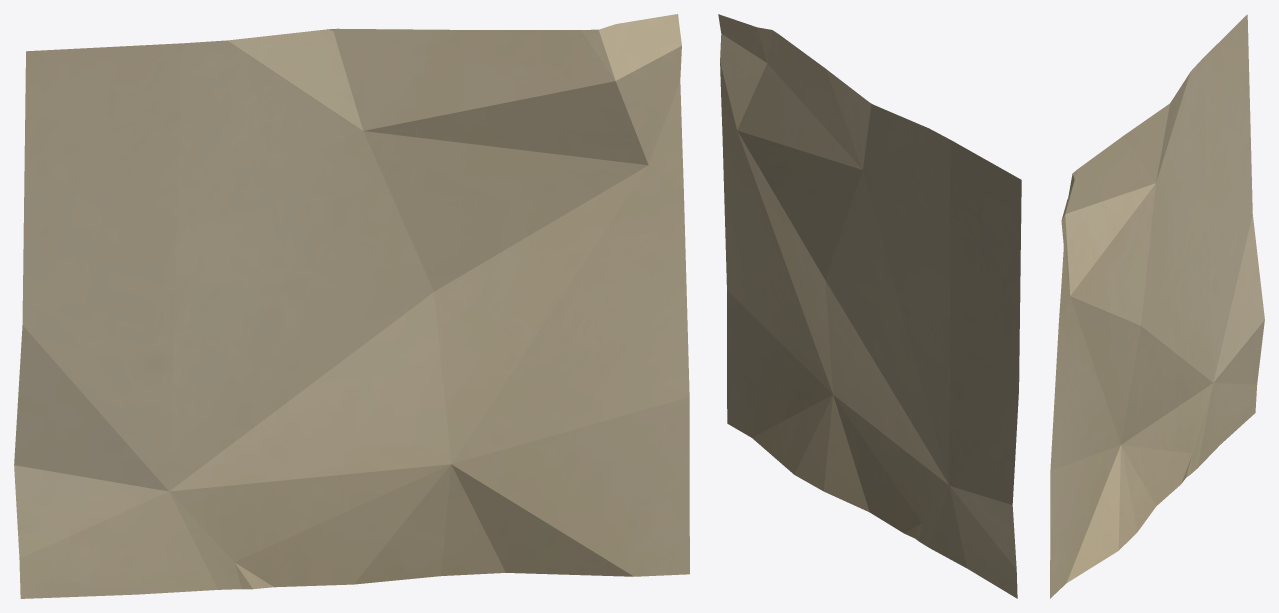
3 views of the same model, side by side, from view 1: azimuth 30°, elevation 25°; view 2: azimuth 150°, elevation 25°; view 3: azimuth 270°, elevation 25° (orthographic). The views are drawn at different scales.
Size of the model in its own units: 0.8374 by 0.8374 by 0.4088.
Materials: 3 (3 with a texture image).
